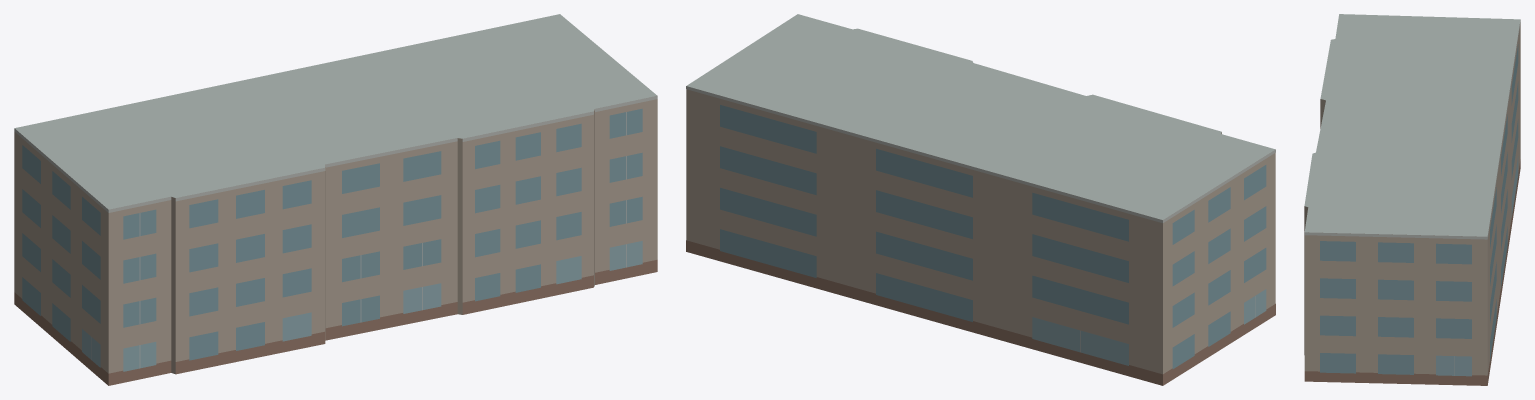
File: survey-upis-32979509.glb
3 renders of one model, left to right at view 1: azimuth 30°, elevation 25°; view 2: azimuth 150°, elevation 25°; view 3: azimuth 270°, elevation 25°, orthographic. The views are drawn at different scales.
Visible parts, largest first — view 1: survey-upis-32979509.tmp; view 2: survey-upis-32979509.tmp; view 3: survey-upis-32979509.tmp.
Part boxes in pixels (bbox=[...]): survey-upis-32979509.tmp: bbox=[14, 14, 657, 385]; survey-upis-32979509.tmp: bbox=[686, 14, 1275, 385]; survey-upis-32979509.tmp: bbox=[1304, 14, 1520, 385].
Size of the model in its own units: 41.31 by 12.9 by 16.94.
